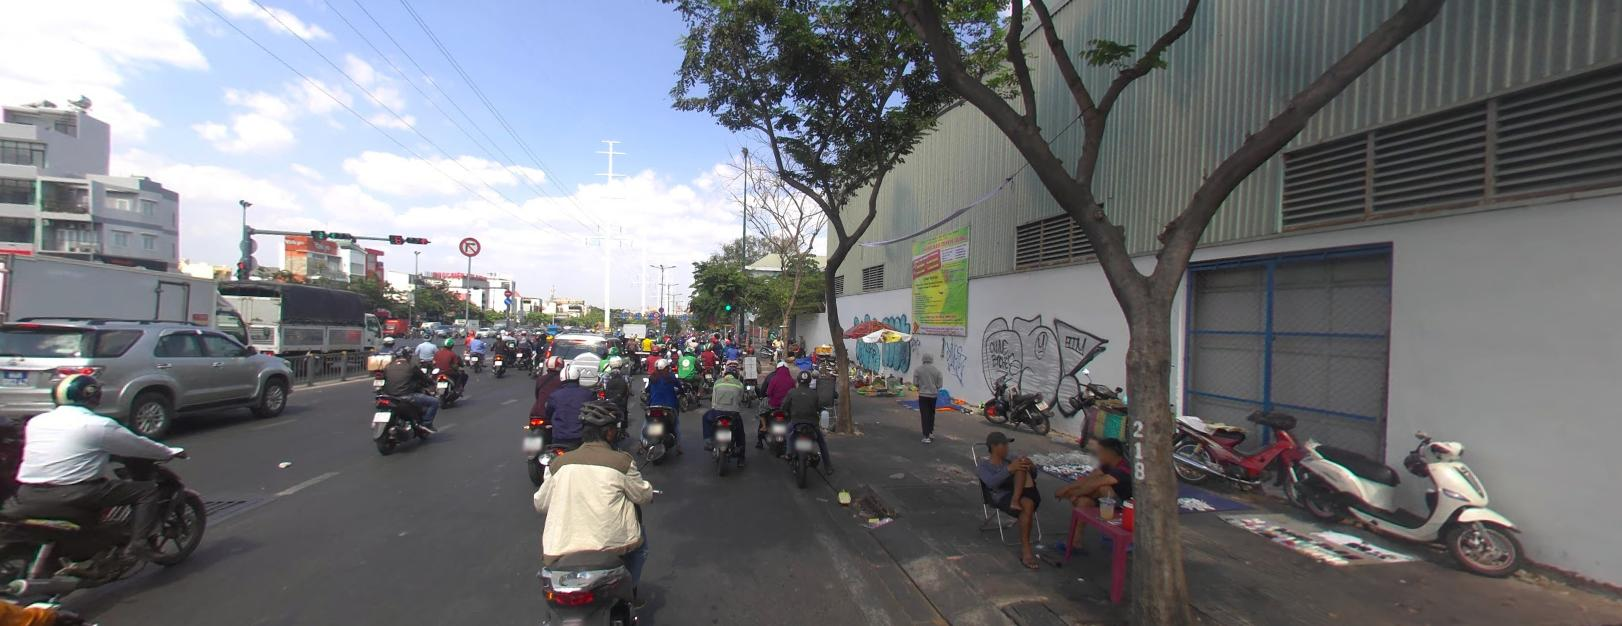Cam dung va do: (708, 314, 714, 320), (658, 305, 663, 310)
Cam nguoc chieu: (503, 288, 510, 296)
Cam re: (458, 235, 481, 255), (653, 310, 658, 316)
Hieu lenh: (504, 296, 511, 303)
Nguy hiem: (708, 320, 714, 325)
